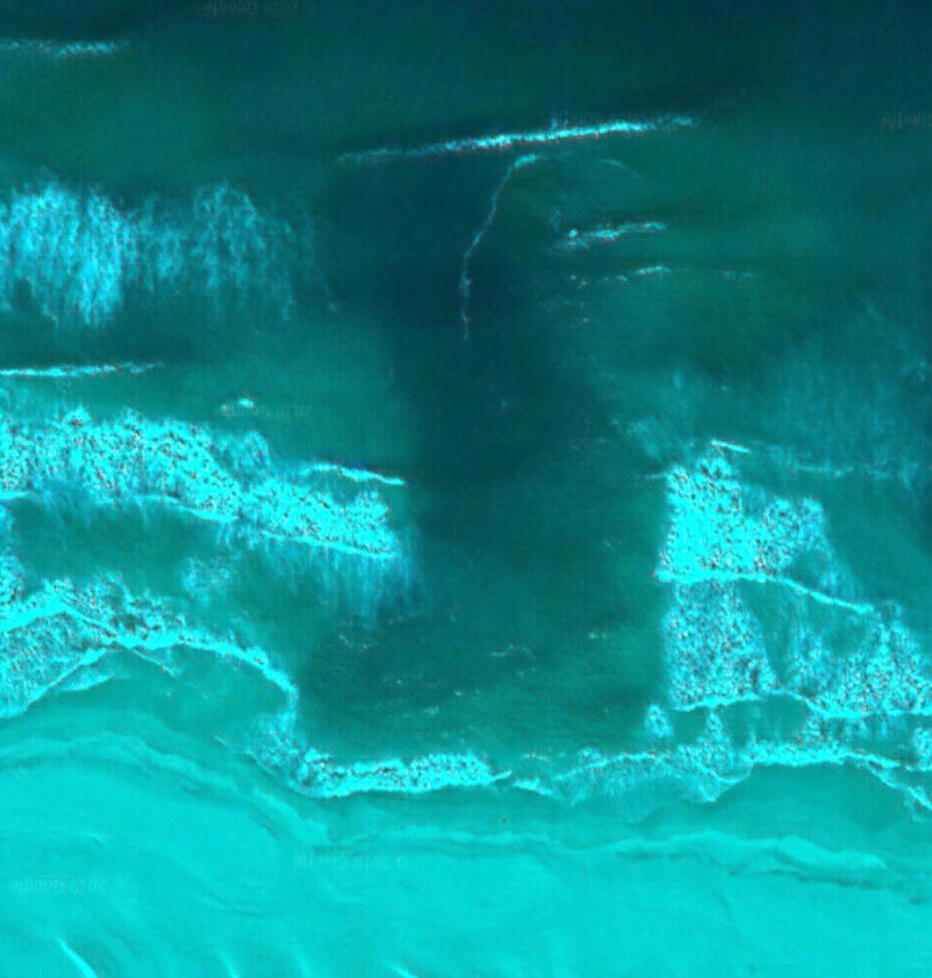rip_current: (258, 105, 746, 794)
